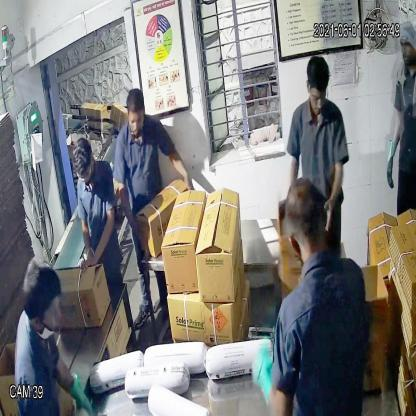goggles: (74, 165, 97, 187)
